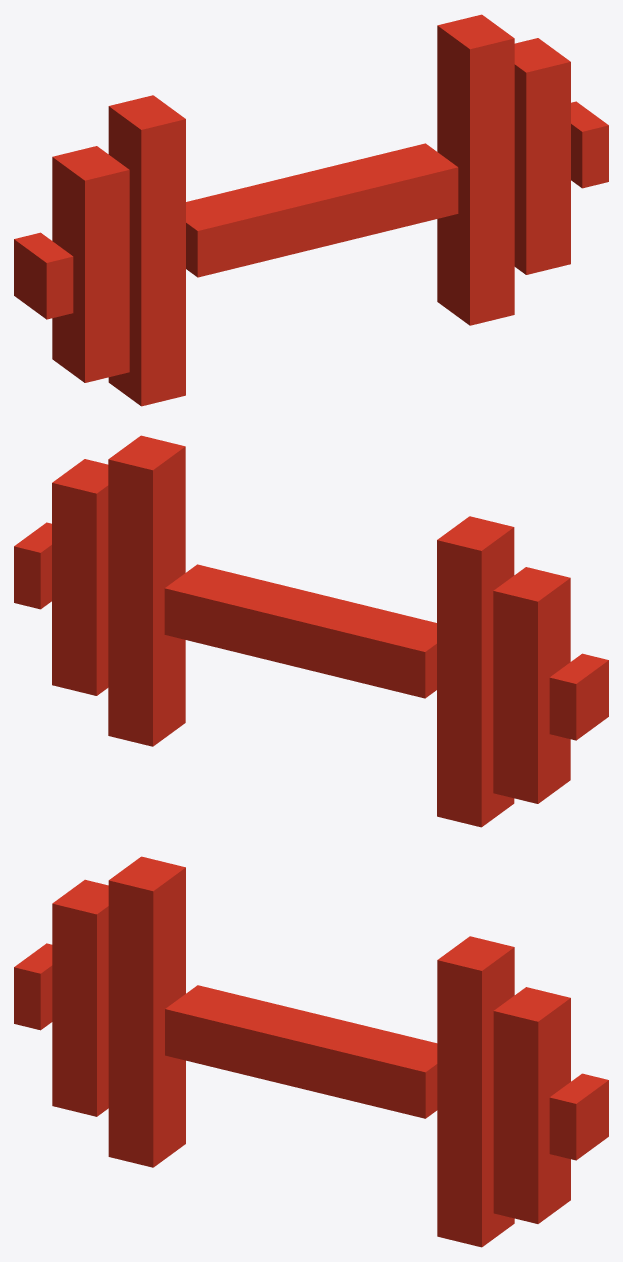
The model's file is Icon_Barbell.fbx.
The picture shows the model from 3 angles, top to bottom: view 1: azimuth 30°, elevation 25°; view 2: azimuth 150°, elevation 25°; view 3: azimuth 330°, elevation 25°; orthographic projection.
Visible parts, largest first — view 1: Icon_Barbell; view 2: Icon_Barbell; view 3: Icon_Barbell.
Boxes of the visible parts, <box> form: Icon_Barbell: <box>14,14,608,406</box>; Icon_Barbell: <box>14,435,608,827</box>; Icon_Barbell: <box>14,856,608,1247</box>.
Bounding box in the file's own units: 120 × 56.39 × 12.06.
